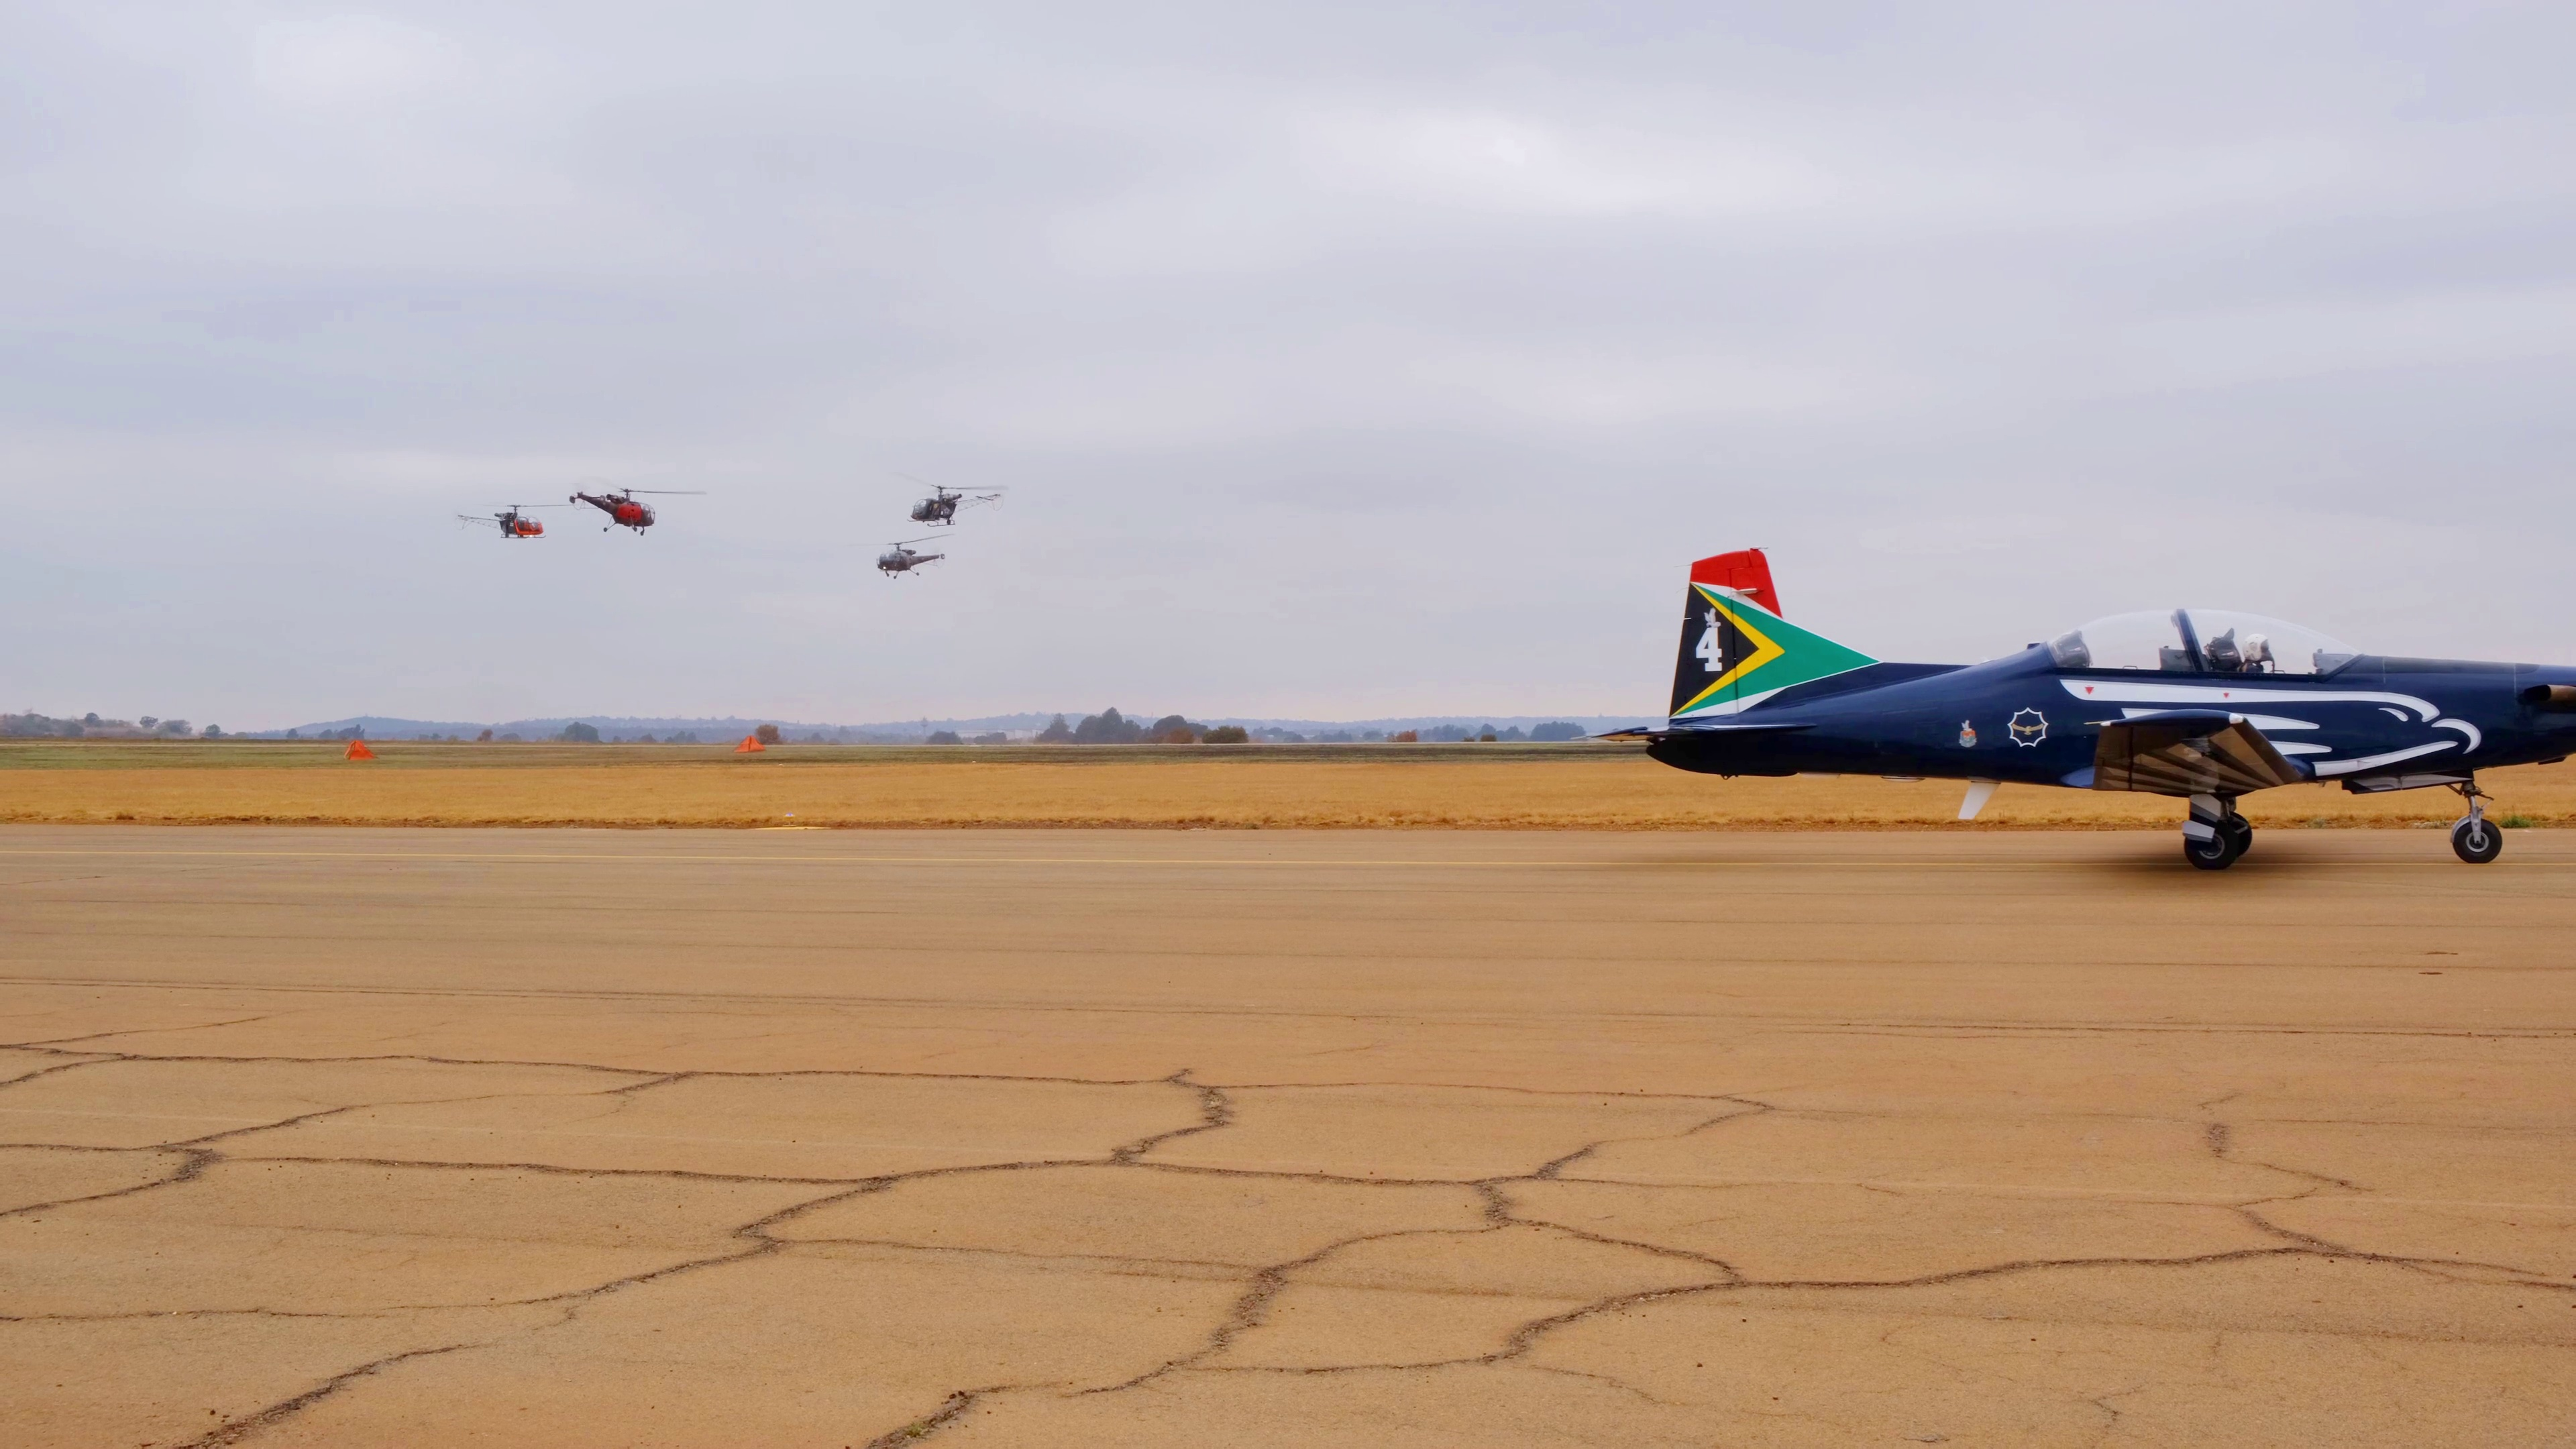heli: (570, 485, 688, 536), (906, 478, 1005, 527), (872, 529, 947, 582), (458, 502, 548, 545)
plane: (1642, 545, 2576, 867)
